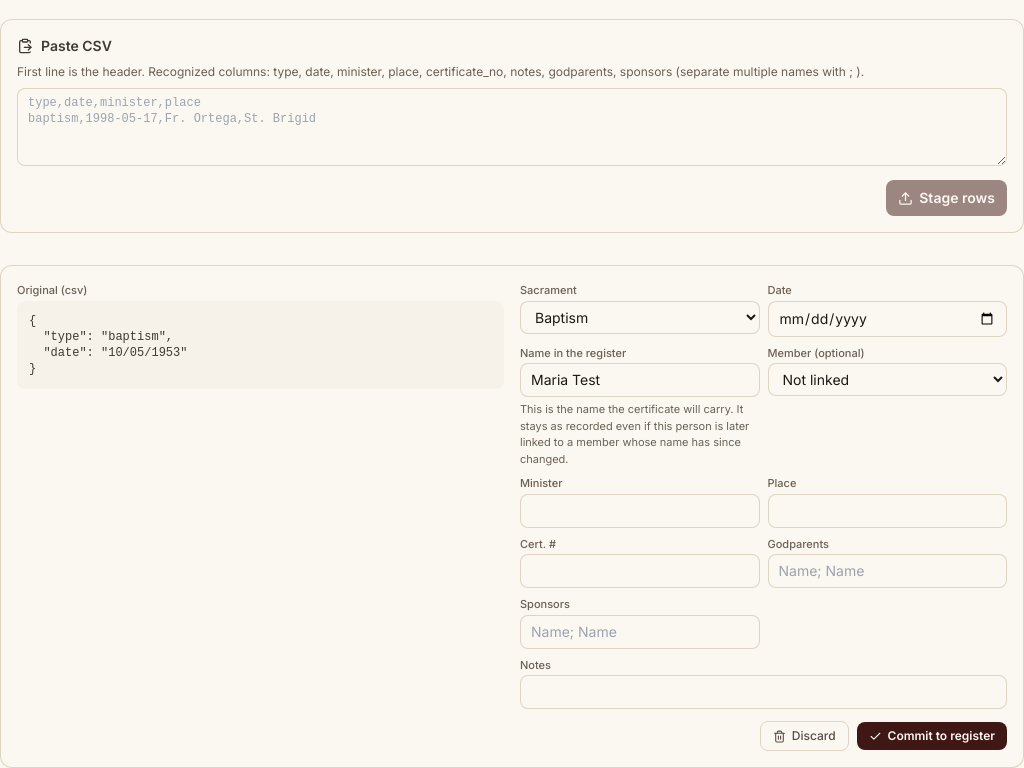
Test: RegisterDrafts — commit outcomes › CONTROL: a 201 removes the row and says it was entered
(page scrolled)
Click the button "Commit to register": (932, 736) [857,722,1007,750]
(page scrolled)
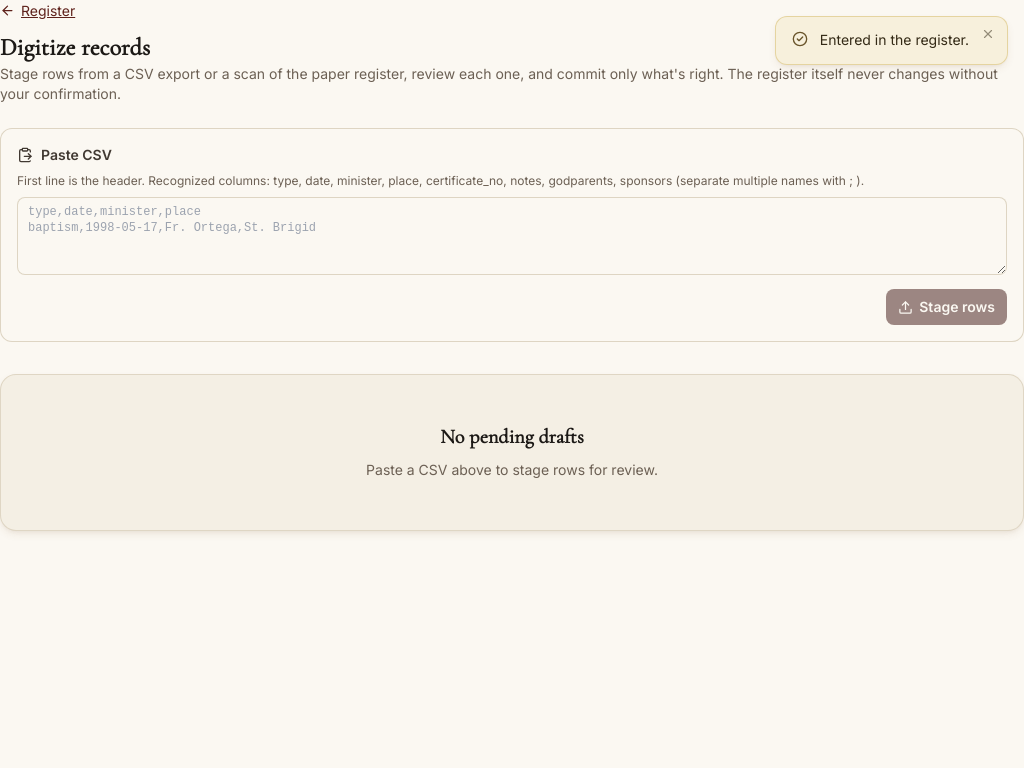
Expected: the text "Maria Test" is not shown
Expected: the text "Entered in the register." is shown, [820,29,969,52]
